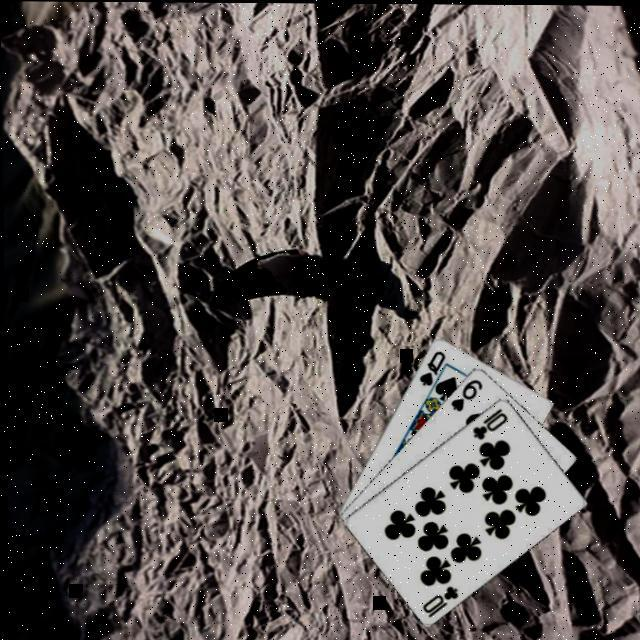10C: (416, 582, 458, 620), (467, 406, 509, 442)
6S: (445, 376, 483, 414)
QS: (414, 348, 446, 388)
